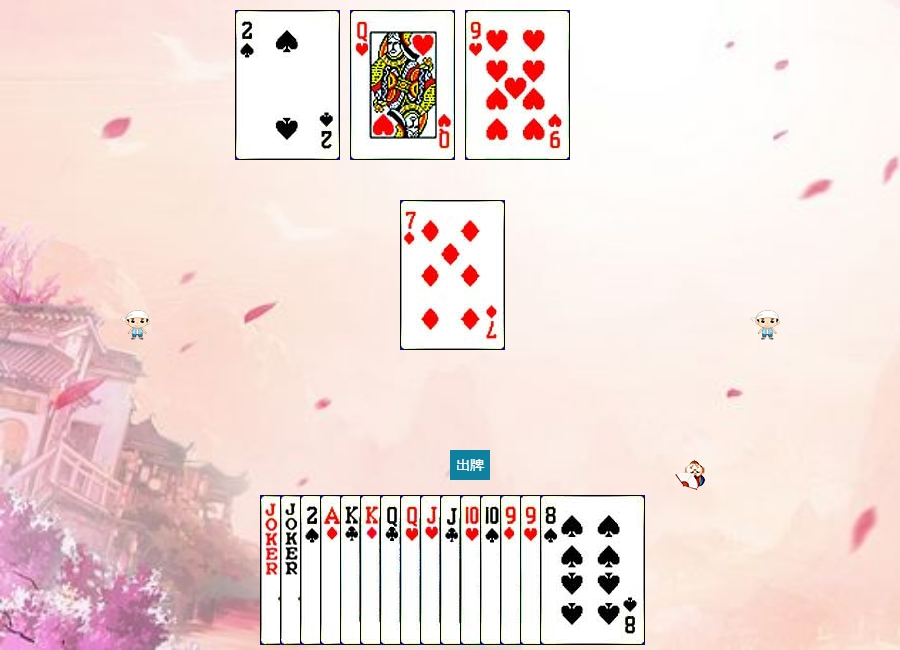10~3: (460, 495, 565, 645)
10~4: (480, 495, 585, 645)
11~2: (440, 495, 545, 645)
11~3: (420, 495, 525, 645)
12~2: (380, 495, 485, 645)
12~3: (350, 10, 455, 160), (400, 495, 505, 645)
13~1: (360, 495, 465, 645)
13~2: (340, 495, 445, 645)
14~1: (320, 495, 425, 645)
15~4: (235, 10, 340, 160), (300, 495, 405, 645)
17~3: (280, 495, 385, 645)
18~4: (260, 495, 365, 645)
7~1: (400, 200, 505, 350)
8~4: (540, 495, 645, 645)
9~1: (500, 495, 605, 645)
9~3: (465, 10, 570, 160), (520, 495, 625, 645)
